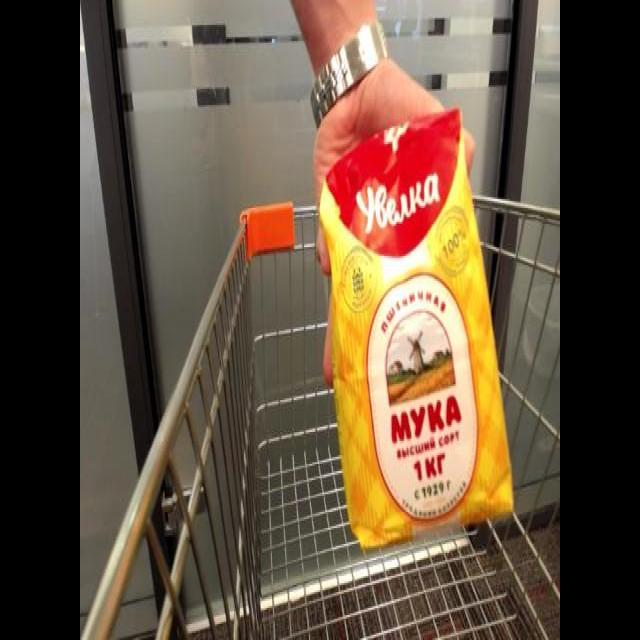Flour: (312, 95, 521, 557)
